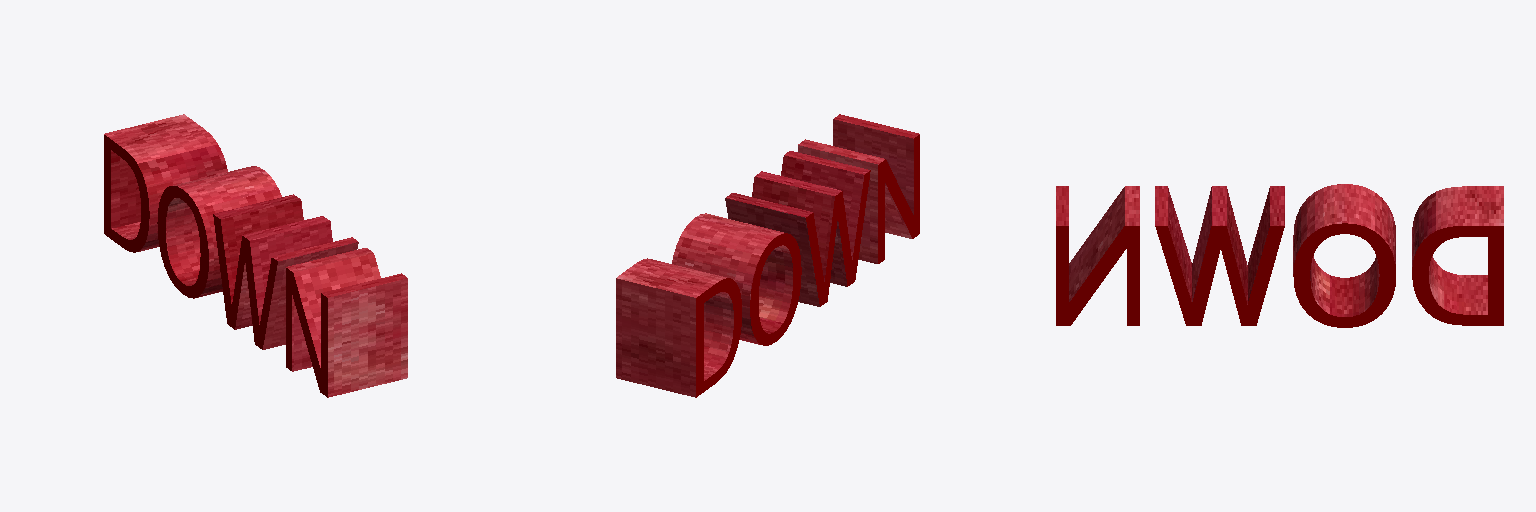
The picture shows the model from 3 angles: view 1: azimuth 30°, elevation 25°; view 2: azimuth 150°, elevation 25°; view 3: azimuth 270°, elevation 25°; orthographic projection.
Parts seen in each view (by area): view 1: td2:typeMesh1polySurface9; view 2: td2:typeMesh1polySurface9; view 3: td2:typeMesh1polySurface9.
Boxes of the visible parts, box(x1,y1,x2,y2) form: td2:typeMesh1polySurface9: box(104, 114, 407, 397); td2:typeMesh1polySurface9: box(616, 114, 919, 397); td2:typeMesh1polySurface9: box(1056, 184, 1503, 327).
Bounding box in the file's own units: 2.73 × 3.39 × 13.15.
2 materials, 2 textured.